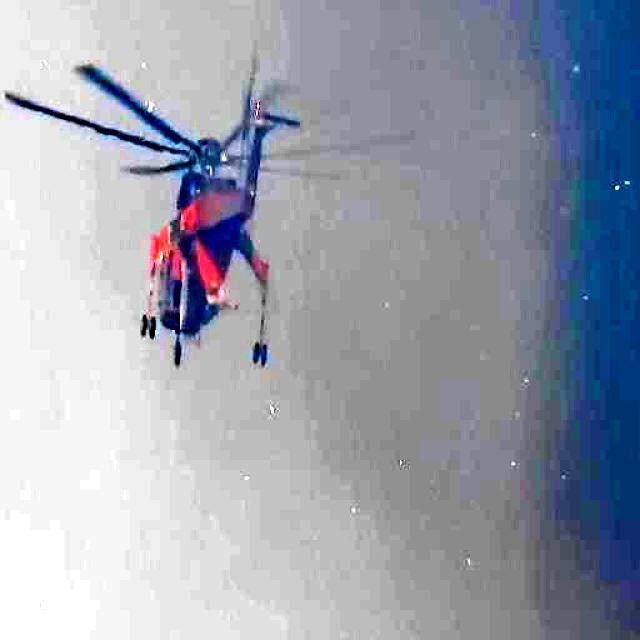drone: (8, 25, 315, 411)
